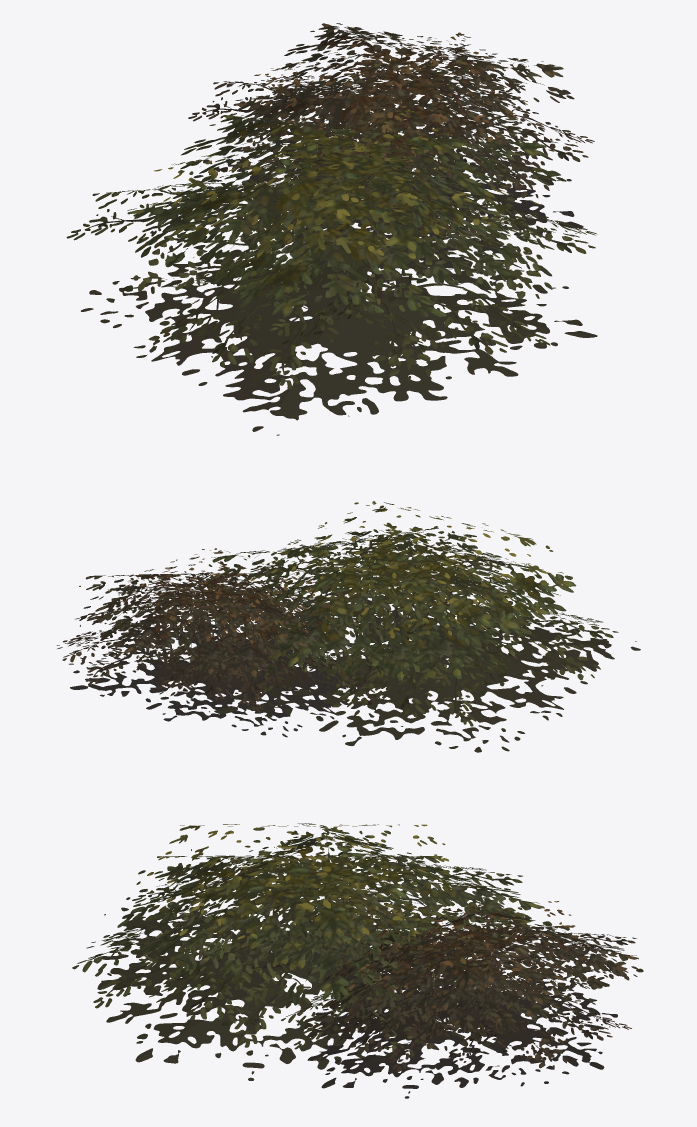
File: plants_bushes13.fbx
The picture shows the model from 3 angles, top to bottom: view 1: azimuth 30°, elevation 25°; view 2: azimuth 150°, elevation 25°; view 3: azimuth 270°, elevation 25°; orthographic projection. The views are drawn at different scales.
Visible parts, largest first — view 1: obj1.050; view 2: obj1.050; view 3: obj1.050.
Boxes of the visible parts, x1=… form: obj1.050: x1=66, y1=23, x2=597, y2=435; obj1.050: x1=56, y1=501, x2=640, y2=752; obj1.050: x1=72, y1=823, x2=643, y2=1098.
Size of the model in its own units: 5.29 by 1.38 by 5.68.
